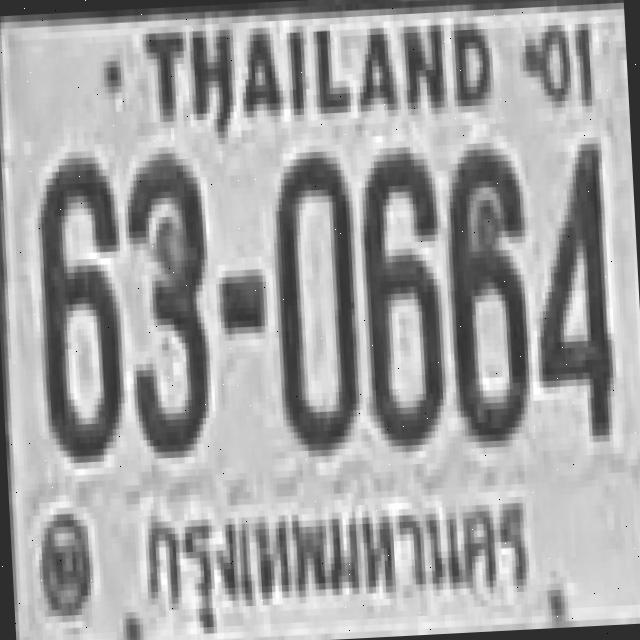0: (268, 144, 360, 446)
3: (120, 146, 212, 454)
4: (527, 138, 613, 432)
6: (32, 150, 128, 458), (440, 142, 532, 437), (356, 142, 445, 438)
Bangkok: (131, 468, 538, 640)
